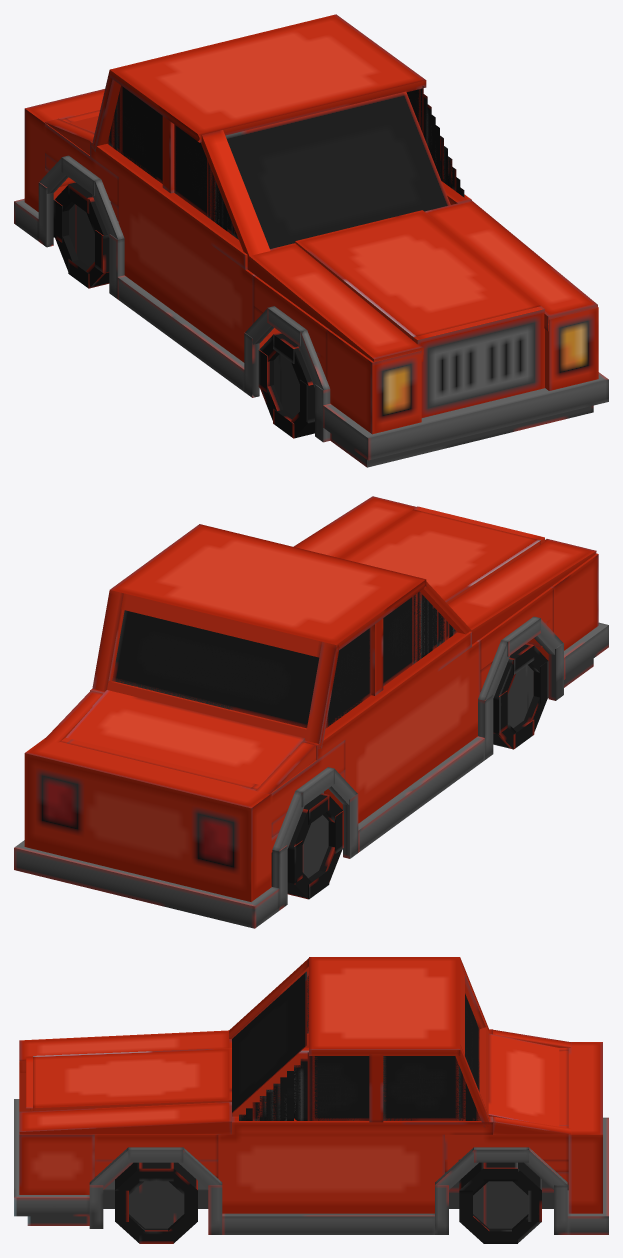
The model's file is car.fbx.
3 views of the same model, one above another, from view 1: azimuth 30°, elevation 25°; view 2: azimuth 150°, elevation 25°; view 3: azimuth 270°, elevation 25° (orthographic). The views are drawn at different scales.
Visible parts, largest first — view 1: cube_27, cube_9, cube_1, cube_56, cube, cube_16, cube_5, cube_55, cube_2, cube_7, cube_3, cube_61 (+21 smaller); view 2: cube_57, cube_9, cube_105, cube_56, cube_142, cube_1, cube_70, cube_5, cube_7, cube_61, cube_106, cube_55 (+26 smaller); view 3: cube_8, cube_9, cube_1, cube_2, cube_57, cube_142, cube_27, cube_117, cube_17, cube_3, cube_5, cube_6 (+45 smaller).
Part boxes in pixels (x1,y1,x2,y2): cube_27: [225, 91, 450, 248]; cube_9: [109, 14, 426, 142]; cube_1: [295, 210, 540, 340]; cube_56: [118, 177, 272, 362]; cube: [410, 306, 544, 417]; cube_16: [323, 372, 608, 460]; cube_5: [247, 243, 423, 361]; cube_55: [327, 329, 421, 434]; cube_2: [424, 200, 597, 331]; cube_7: [90, 141, 247, 269]; cube_3: [545, 307, 598, 390]; cube_61: [117, 275, 244, 391]; cube_57: [24, 738, 271, 901]; cube_9: [110, 524, 426, 652]; cube_105: [112, 610, 319, 728]; cube_56: [324, 640, 480, 823]; cube_142: [66, 690, 304, 785]; cube_1: [339, 509, 540, 603]; cube_70: [14, 840, 279, 928]; cube_5: [448, 539, 596, 644]; cube_7: [303, 631, 471, 760]; cube_61: [358, 736, 484, 852]; cube_106: [121, 593, 321, 657]; cube_55: [535, 553, 598, 660]; cube_8: [218, 1134, 444, 1213]; cube_9: [309, 957, 460, 1055]; cube_1: [33, 1048, 231, 1111]; cube_2: [19, 1102, 232, 1134]; cube_57: [568, 1042, 602, 1213]; cube_142: [488, 1033, 559, 1126]; cube_27: [232, 971, 306, 1113]; cube_117: [383, 1056, 458, 1120]; cube_17: [222, 1213, 434, 1234]; cube_3: [19, 1132, 94, 1194]; cube_5: [19, 1030, 231, 1072]; cube_6: [232, 1116, 492, 1134].
Size of what is drawn, in the model's own units: 106 by 95.94 by 271.
2 materials, 2 textured.
